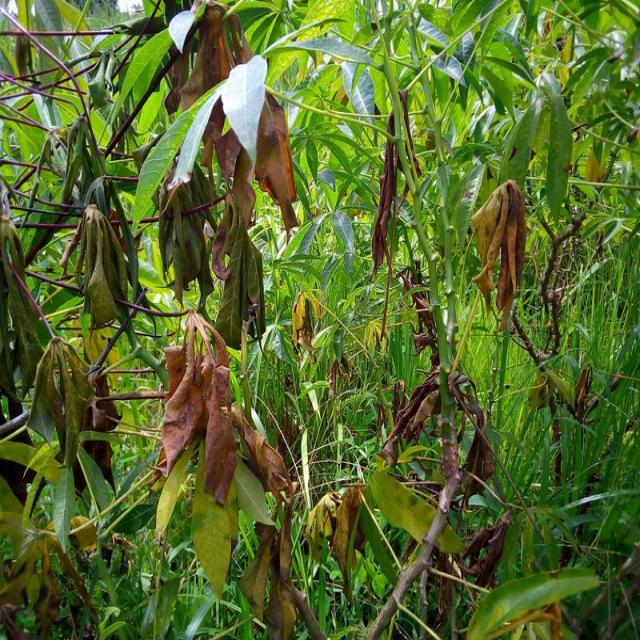cassava leaf: (469, 178, 526, 331), (367, 468, 465, 555)
